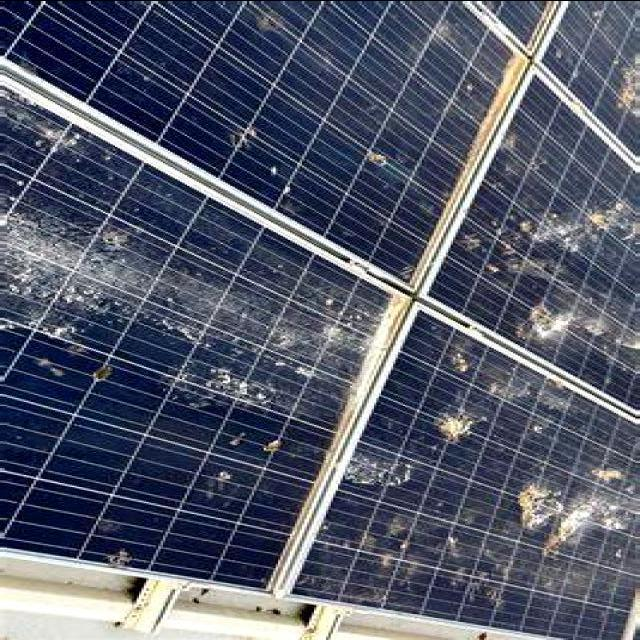soiled: (302, 0, 637, 637), (0, 64, 394, 602)
